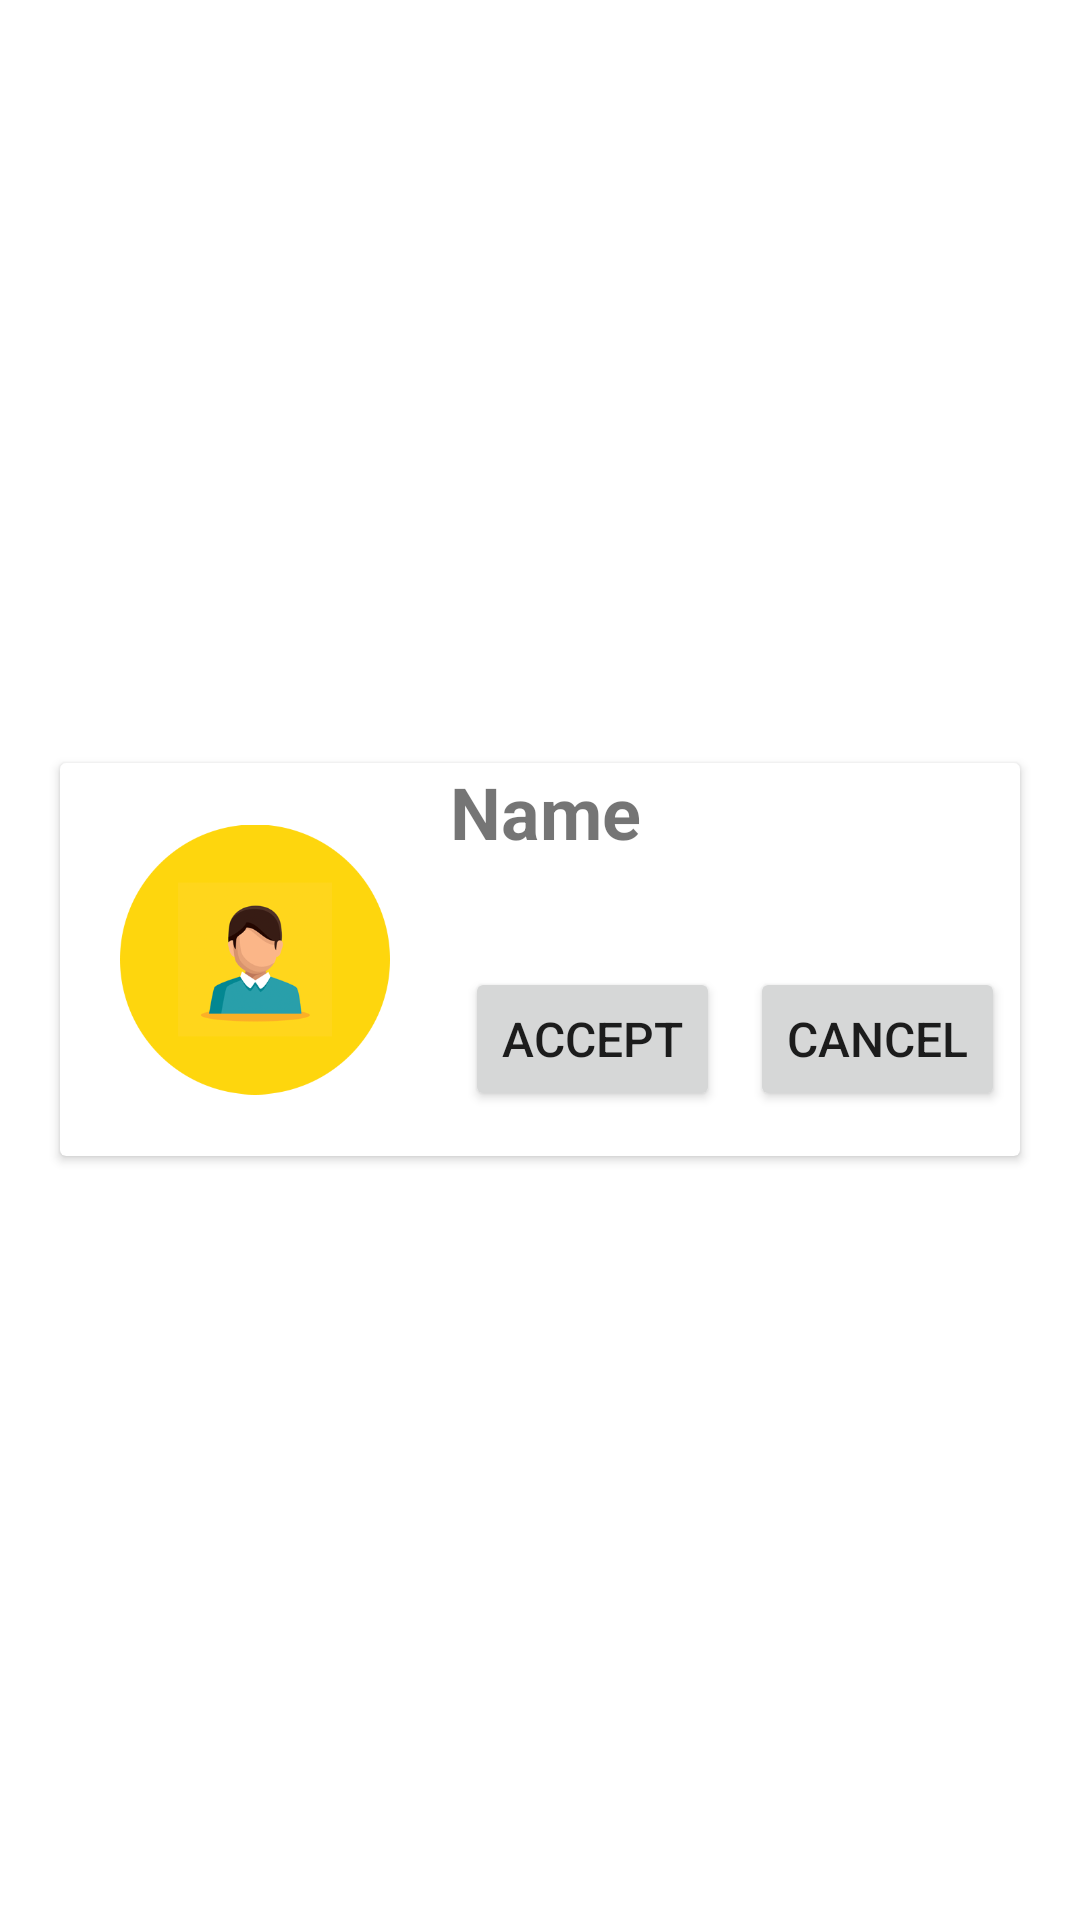

Named icons in this screenshot (1080x1920) and their bounding boxes, Rect(x1, y1, x2, y2):
profile: Rect(120, 825, 390, 1095)
